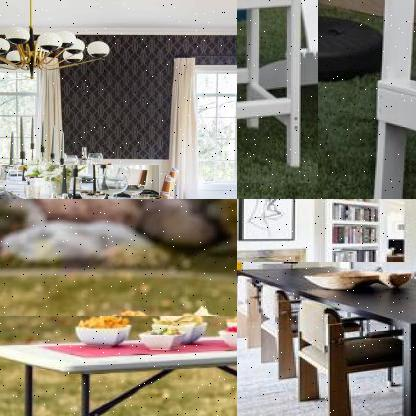table: (237, 261, 415, 415), (0, 316, 236, 415), (237, 0, 318, 185)
